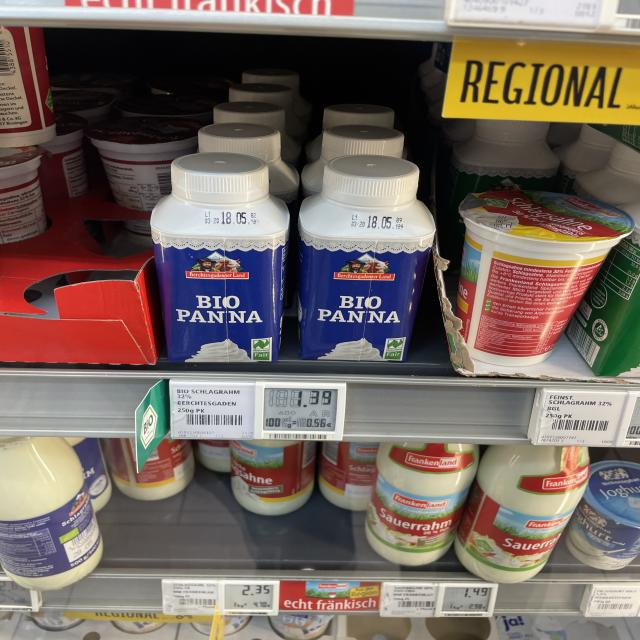Cream: (455, 190, 634, 367), (149, 152, 289, 363), (298, 154, 435, 361), (455, 446, 590, 584), (0, 437, 102, 592), (366, 443, 479, 567), (84, 116, 200, 211), (84, 116, 200, 210), (0, 25, 54, 147), (230, 440, 316, 516), (102, 439, 194, 501), (0, 145, 45, 243), (38, 113, 87, 199), (318, 442, 379, 511)
